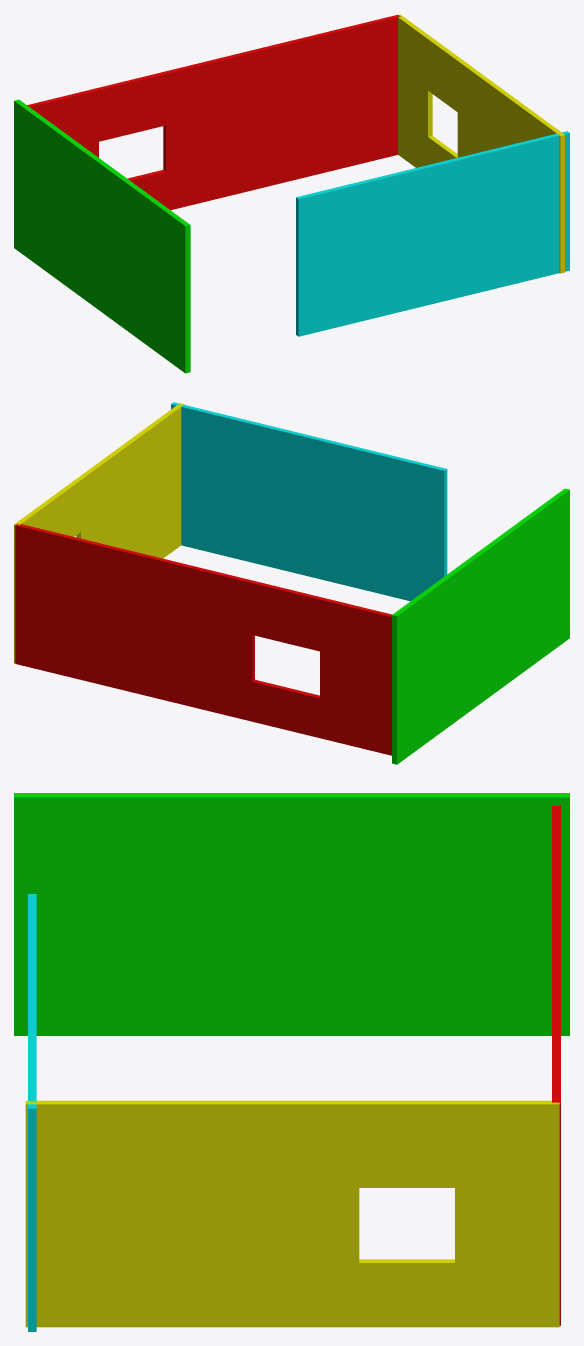
The model's file is Kitchen.fbx.
The picture shows the model from 3 angles, top to bottom: view 1: azimuth 30°, elevation 25°; view 2: azimuth 150°, elevation 25°; view 3: azimuth 270°, elevation 25°; orthographic projection. The views are drawn at different scales.
Visible parts, largest first — view 1: Red, Cyan, Green, Yellow; view 2: Red, Cyan, Green, Yellow; view 3: Green, Yellow, Cyan, Red.
Part boxes in pixels (x1,y1,x2,y2): Red: [27, 14, 400, 210]; Cyan: [296, 131, 569, 336]; Green: [14, 99, 190, 373]; Yellow: [398, 14, 564, 273]; Red: [15, 523, 391, 755]; Cyan: [171, 402, 447, 601]; Green: [392, 488, 569, 764]; Yellow: [14, 403, 184, 663]; Green: [14, 793, 569, 1035]; Yellow: [25, 1100, 559, 1327]; Cyan: [28, 894, 36, 1331]; Red: [552, 805, 560, 1325].
Bounding box in the file's own units: 421 × 152 × 321.
